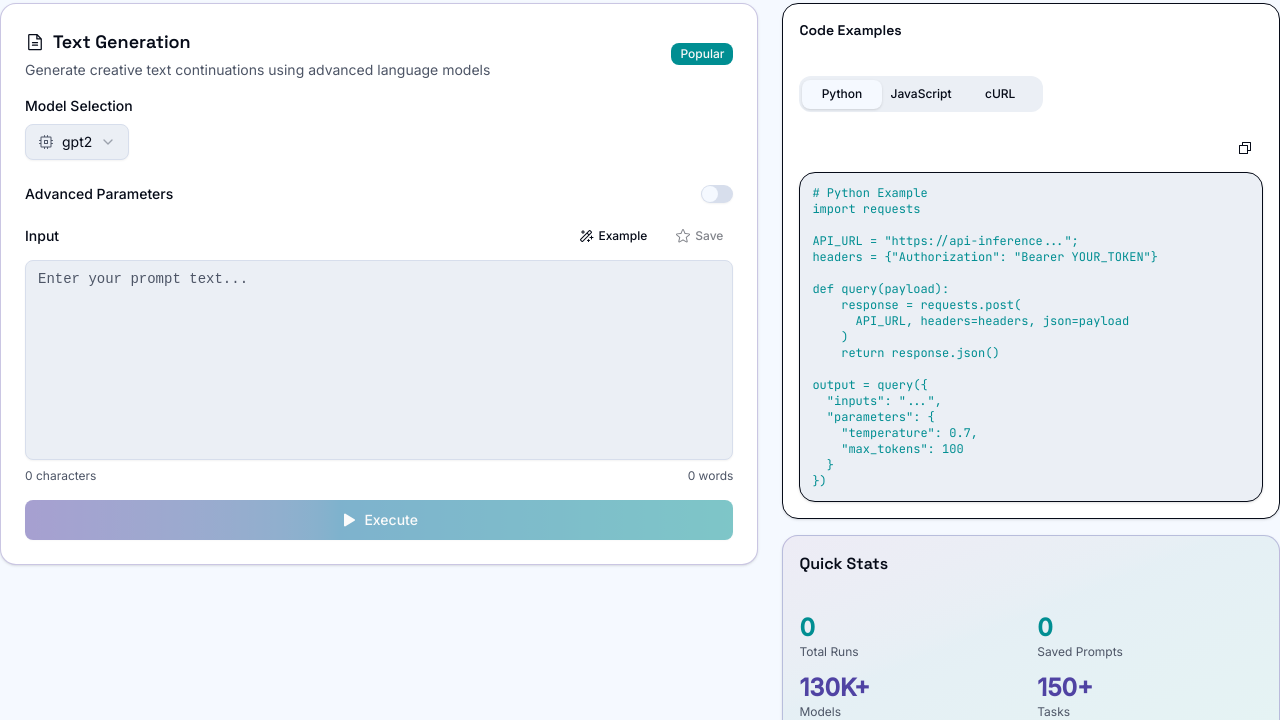
Test case: ApiPlayground › Input Handling › should show word count
(page scrolled)
Type "Hello world test" into the text box with placeholder "Enter your prompt text...".
click(379, 360); type("Hello world test")  # box [25, 260, 733, 460]
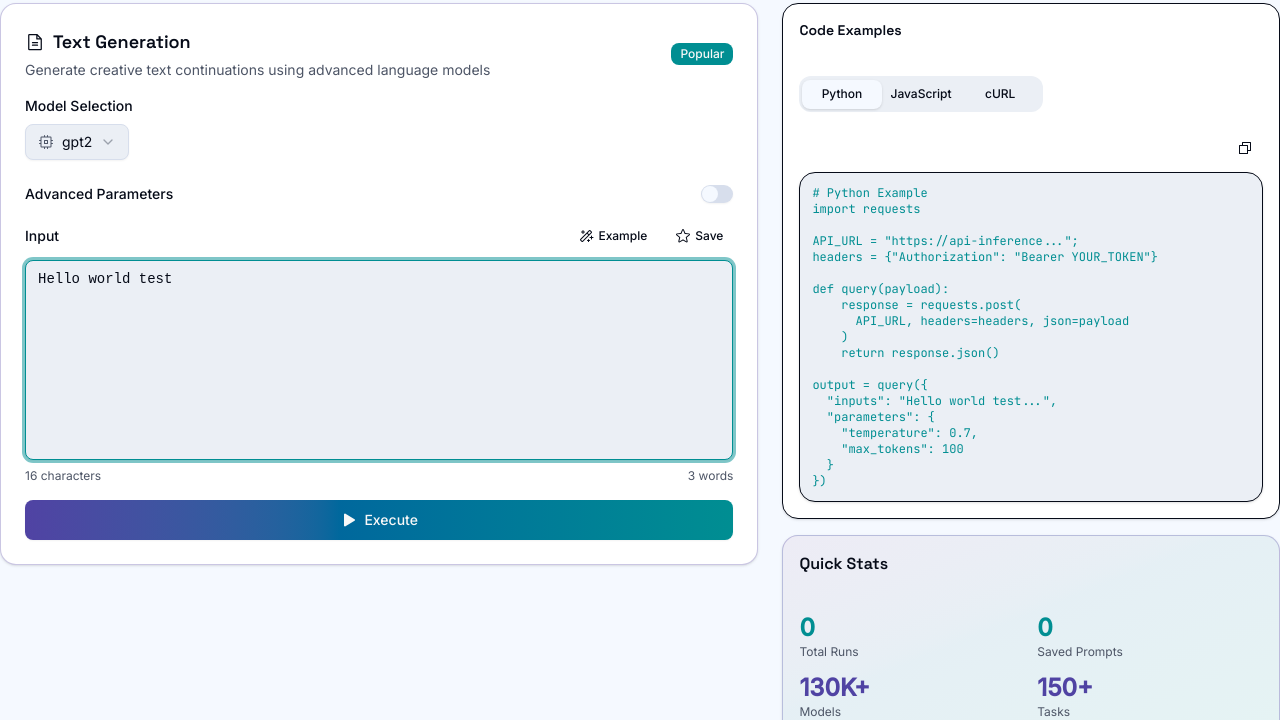
Result: the text "3 words" is shown at [688, 468, 733, 484]
